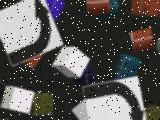Left: (0, 0, 64, 67)
Right: (82, 76, 146, 120)
